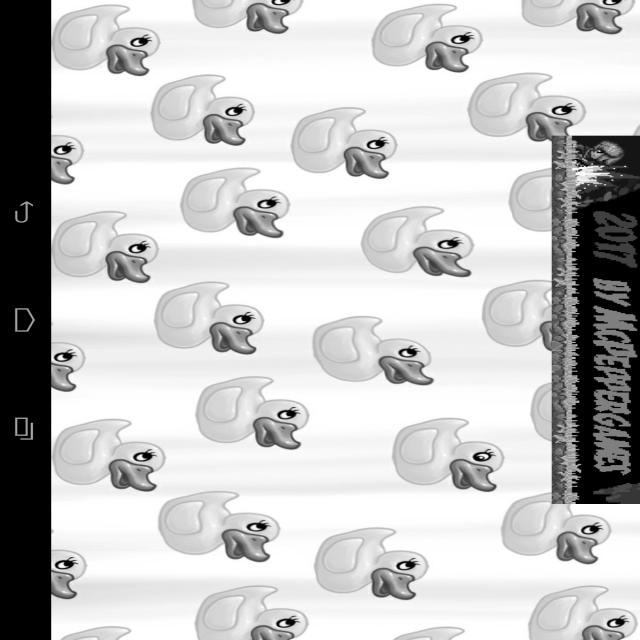Button: (6, 89, 54, 118), (582, 89, 630, 118)
EditText: (202, 50, 508, 73)
ImageButton: (5, 43, 56, 81), (107, 43, 158, 81), (56, 43, 106, 81), (594, 43, 640, 81), (160, 48, 203, 75), (550, 48, 593, 75), (508, 48, 550, 75)
ImageView: (0, 81, 640, 82)
